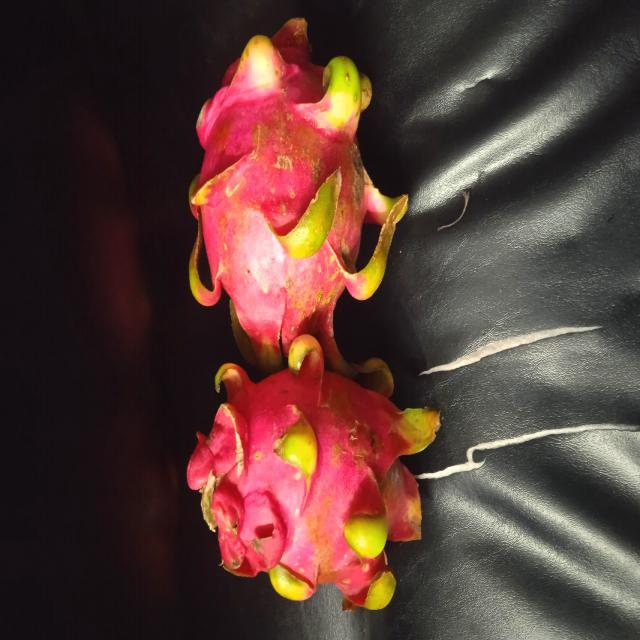do: (184, 11, 408, 374), (184, 368, 436, 612)
